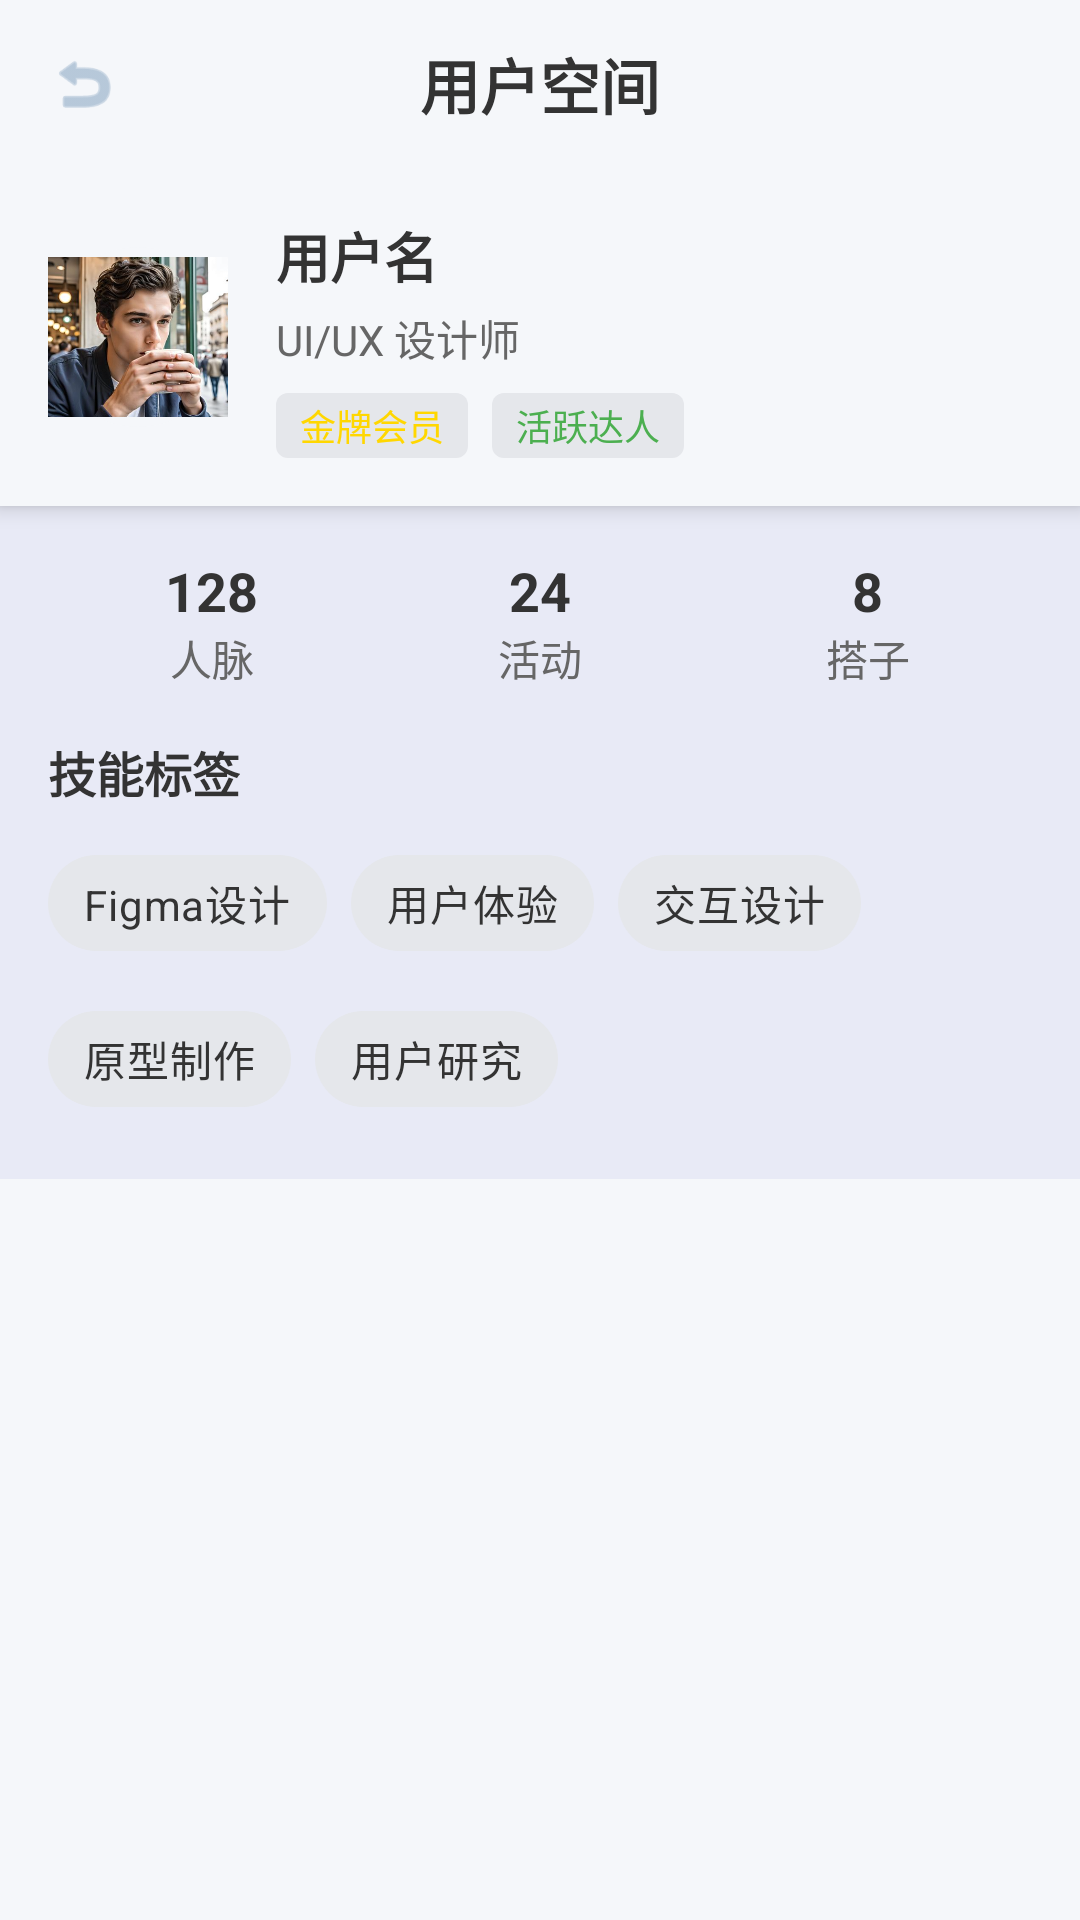

Where to tap for icons on this 1080 x 1920 app screen, as [x,y]:
revert: [85,84]
touxiang: [138,337]
